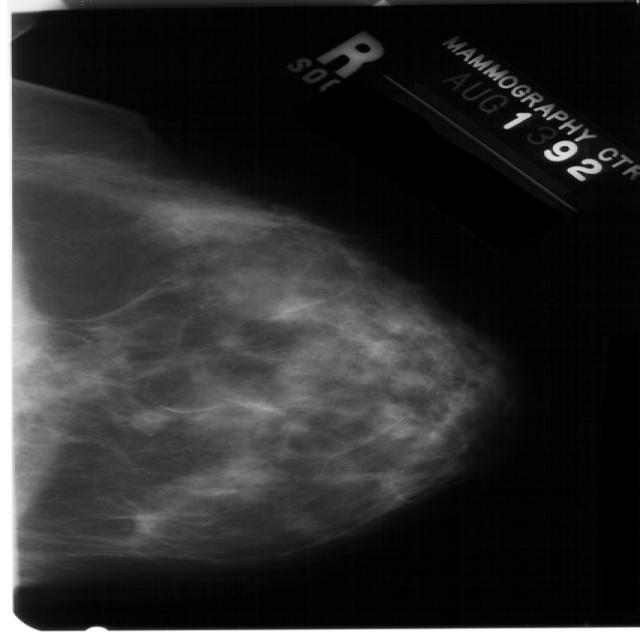tumour: (128, 407, 166, 433)
